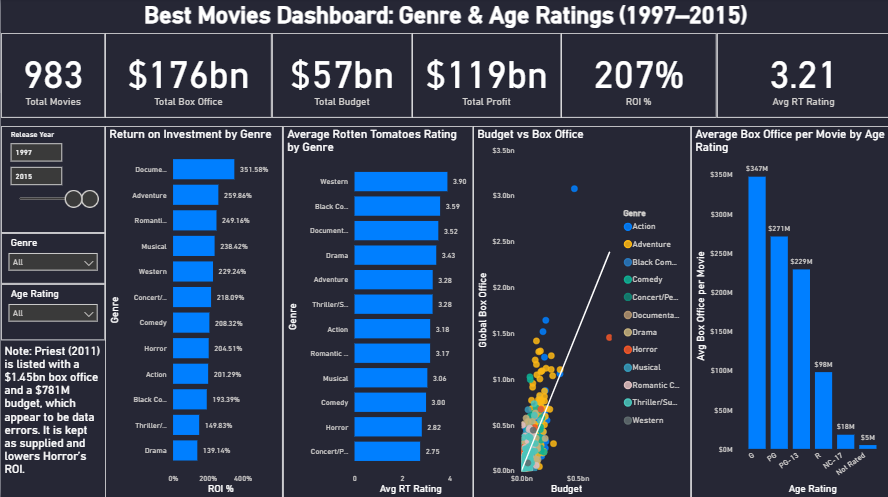

Layout of this report page (visuals, bound fields, positions):
{"tool":"powerbi","page":{"name":"Genre & Ratings","canvas":[1280,720],"ordinal":1},"visuals":[{"type":"textbox","box":[0,0,1280,50],"z":0},{"type":"card","fields":{"Values":["Movies Measures.Total Movies"]},"box":[0,50.1,150.4,122],"z":1000},{"type":"card","fields":{"Values":["Movies Measures.Total Box Office"]},"box":[150.4,50.1,240.3,122],"z":2000},{"type":"card","fields":{"Values":["Movies Measures.Total Budget"]},"box":[390.7,50.1,201.8,122],"z":3000},{"type":"card","fields":{"Values":["Movies Measures.Total Profit"]},"box":[592.4,50.1,214.6,122],"z":4000},{"type":"card","fields":{"Values":["Movies Measures.ROI %"]},"box":[807.1,50.1,223.6,122],"z":5000},{"type":"card","fields":{"Values":["Movies Measures.Avg RT Rating"]},"box":[1030.7,50.1,249.3,122],"z":6000},{"type":"slicer","fields":{"Values":["Movies.Release Year"]},"box":[0,183.8,150.4,154.2],"z":7000},{"type":"slicer","fields":{"Values":["Movies.Genre"]},"box":[0,338,150.4,73.3],"z":8000},{"type":"slicer","fields":{"Values":["Movies.Age Rating"]},"box":[0,411.2,150.4,81],"z":9000},{"type":"clusteredBarChart","title":"Return on Investment by Genre","fields":{"Category":["Movies.Genre"],"Y":["Movies Measures.ROI %"]},"box":[150.4,183.8,255.7,535.9],"z":10000},{"type":"clusteredBarChart","title":"Average Rotten Tomatoes Rating by Genre","fields":{"Category":["Movies.Genre"],"Y":["Movies Measures.Avg RT Rating"]},"box":[406.1,183.8,273.7,535.9],"z":11000},{"type":"scatterChart","title":"Budget vs Box Office ","fields":{"Category":["Movies.Movie Title"],"Series":["Movies.Genre"],"X":["Sum(Movies.Budget)"],"Y":["Sum(Movies.Global Box Office)"]},"box":[679.8,183.8,313.6,535.9],"z":12000},{"type":"clusteredColumnChart","title":"Average Box Office per Movie by Age Rating","fields":{"Category":["Movies.Age Rating"],"Y":["Movies Measures.Avg Box Office per Movie"]},"box":[993.4,183.8,286.6,535.9],"z":13000},{"type":"textbox","box":[0,492.2,150.4,227.5],"z":14000}]}

Visuals, with their boxes in screenshot pixels (x1, y1, x2, y2), scaled from the page's 1280x720 canvas onto the 888x497 screenshot:
textbox: left=0, top=0, right=887, bottom=35
card - Movies Measures.Total Movies: left=0, top=35, right=104, bottom=119
card - Movies Measures.Total Box Office: left=104, top=35, right=271, bottom=119
card - Movies Measures.Total Budget: left=271, top=35, right=411, bottom=119
card - Movies Measures.Total Profit: left=411, top=35, right=560, bottom=119
card - Movies Measures.ROI %: left=560, top=35, right=715, bottom=119
card - Movies Measures.Avg RT Rating: left=715, top=35, right=887, bottom=119
slicer - Movies.Release Year: left=0, top=127, right=104, bottom=233
slicer - Movies.Genre: left=0, top=233, right=104, bottom=284
slicer - Movies.Age Rating: left=0, top=284, right=104, bottom=340
"Return on Investment by Genre" clusteredBarChart: left=104, top=127, right=282, bottom=496
"Average Rotten Tomatoes Rating by Genre" clusteredBarChart: left=282, top=127, right=472, bottom=496
"Budget vs Box Office " scatterChart: left=472, top=127, right=689, bottom=496
"Average Box Office per Movie by Age Rating" clusteredColumnChart: left=689, top=127, right=887, bottom=496
textbox: left=0, top=340, right=104, bottom=496
